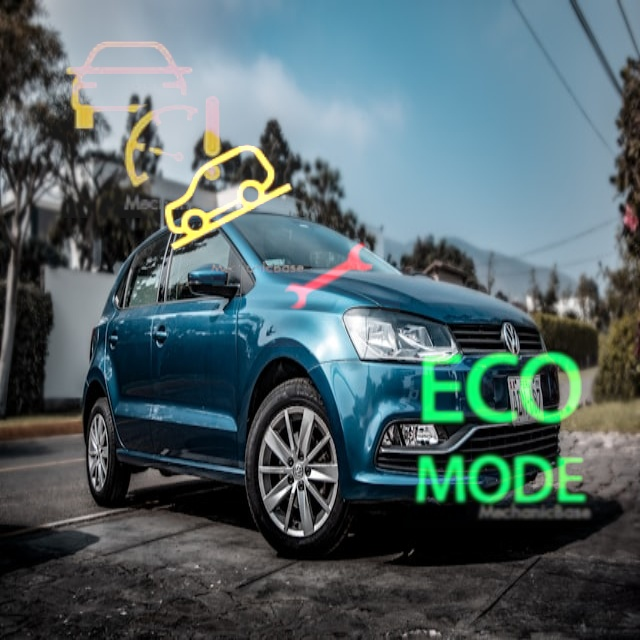symbol: (39, 10, 247, 218), (403, 333, 598, 528), (147, 118, 310, 281), (261, 208, 400, 347)
